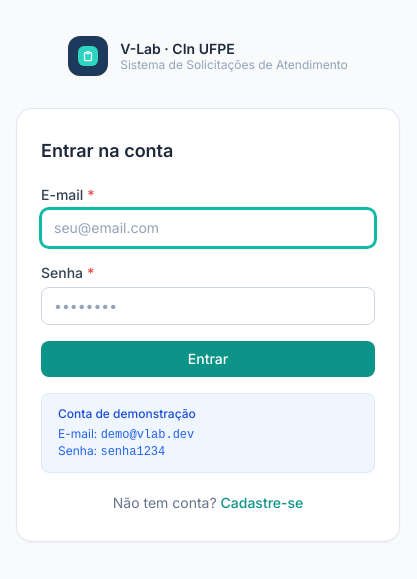
Test: Login › exibe erro quando e-mail está vazio
Click the button "Entrar": (208, 359) left=41, top=341, right=375, bottom=377
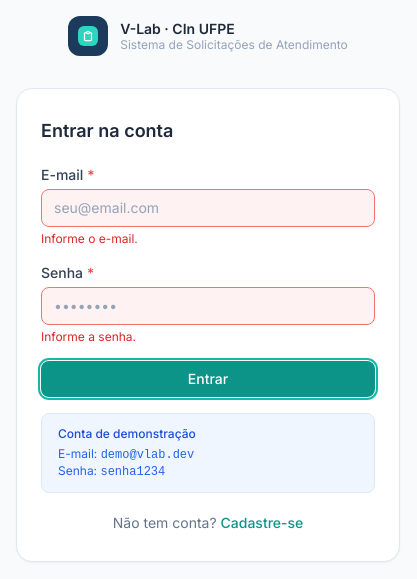
Result: the text "Informe o e-mail." is shown at left=41, top=231, right=138, bottom=246
